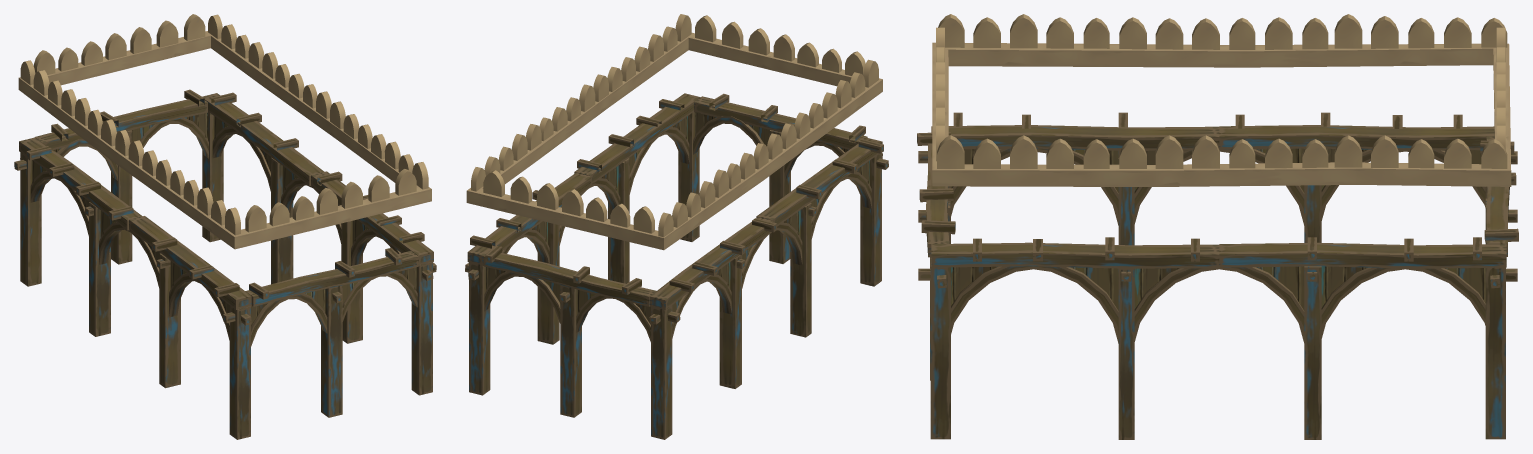
File: A_Bridge_A_KitPart.FBX
3 renders of one model, left to right at view 1: azimuth 30°, elevation 25°; view 2: azimuth 150°, elevation 25°; view 3: azimuth 270°, elevation 25°, orthographic. The views are drawn at different scales.
Visible parts, largest first — view 1: A_Bridge_A_KitPart; view 2: A_Bridge_A_KitPart; view 3: A_Bridge_A_KitPart.
Part boxes in pixels (box(x1,y1,x2,y2)): A_Bridge_A_KitPart: box(14, 14, 436, 439); A_Bridge_A_KitPart: box(465, 14, 888, 439); A_Bridge_A_KitPart: box(917, 14, 1518, 439).
Bounding box in the file's own units: 469 × 471 × 858.
